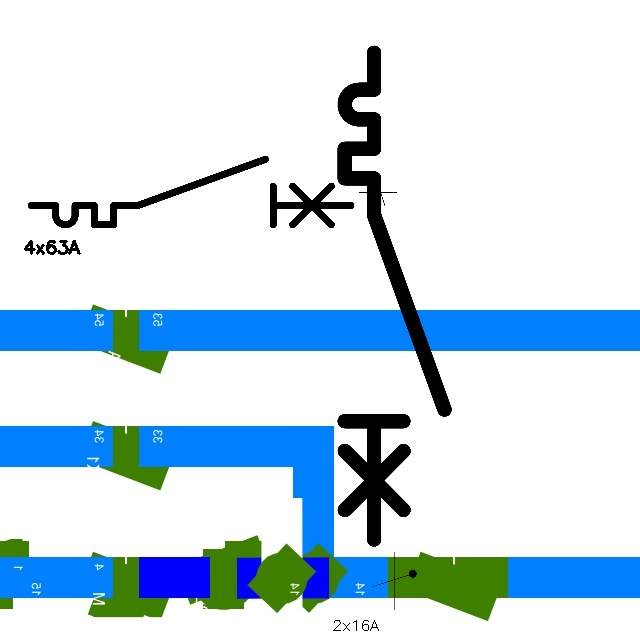interruptor_termomagnetico: (332, 40, 457, 552), (23, 151, 359, 233)
